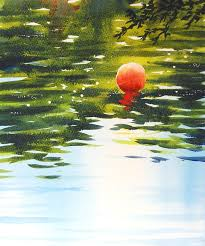buoy: (117, 62, 146, 95)
